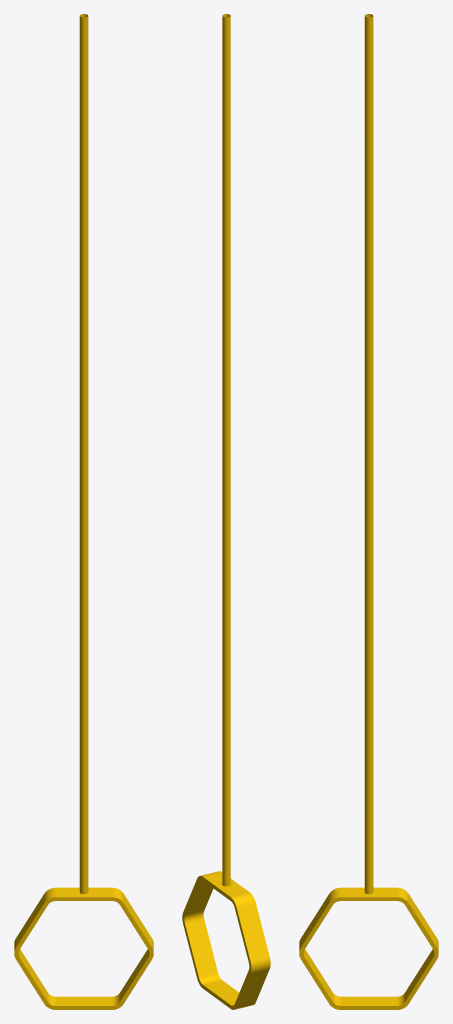
Rendered from cutter2_pencil.fbx.
3 renders of one model, left to right at view 1: azimuth 90°, elevation 25°; view 2: azimuth 210°, elevation 25°; view 3: azimuth 270°, elevation 25°, orthographic.
Parts seen in each view (by area): view 1: Cutter2_Pencil; view 2: Cutter2_Pencil; view 3: Cutter2_Pencil.
Boxes of the visible parts, left/top/right/bottom form: Cutter2_Pencil: left=14, top=14, right=153, bottom=1009; Cutter2_Pencil: left=182, top=14, right=270, bottom=1009; Cutter2_Pencil: left=299, top=14, right=438, bottom=1009.
Bounding box in the file's own units: 16.77 × 816 × 104.
